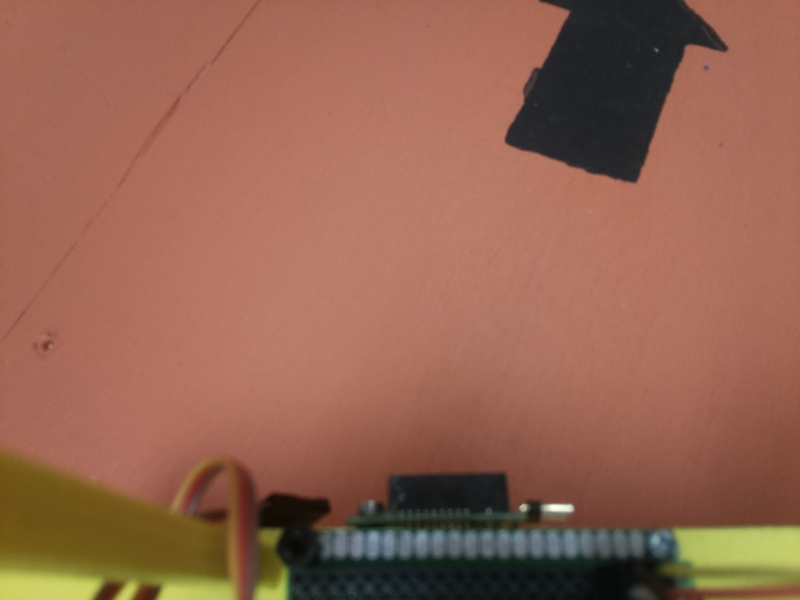start: (502, 1, 728, 200)
